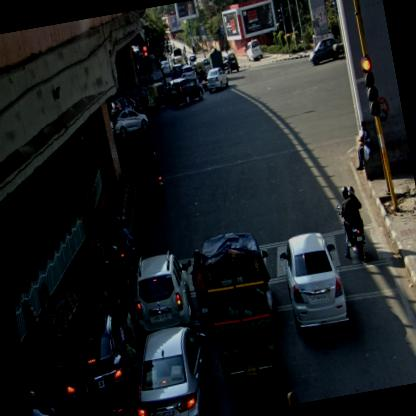car: (123, 321, 221, 415), (276, 228, 352, 346), (53, 311, 137, 415), (122, 246, 197, 336), (108, 105, 152, 140), (167, 74, 205, 110), (304, 36, 340, 68), (107, 93, 146, 120), (203, 64, 230, 94), (244, 37, 264, 64), (221, 52, 239, 75), (181, 64, 196, 80), (159, 61, 171, 76)
motorcycle: (332, 180, 371, 266), (102, 244, 137, 318), (185, 246, 214, 332), (110, 214, 140, 283), (145, 148, 167, 202), (29, 386, 62, 415), (198, 62, 209, 91)
truck: (198, 226, 283, 394), (208, 44, 225, 76)
